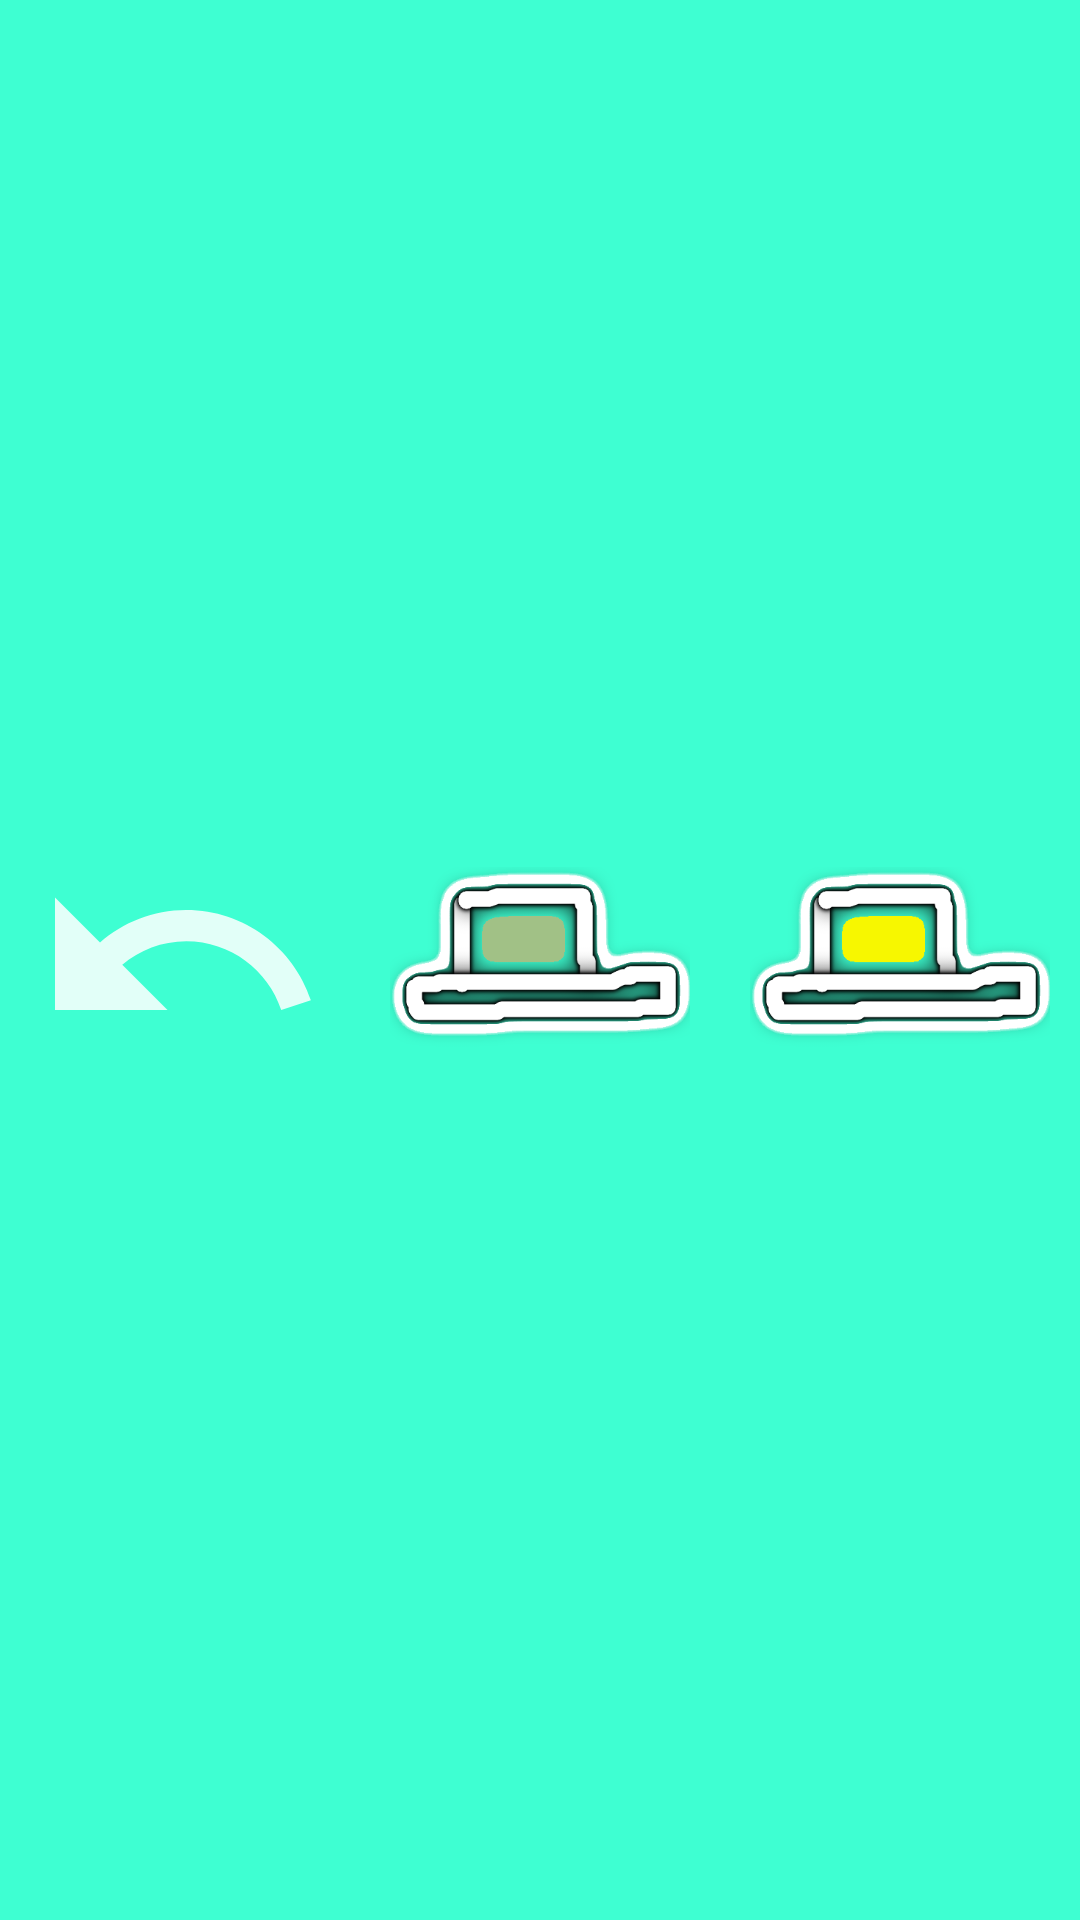

Icon bounding boxes for this 1080w x 1920h phone screenshot, format (x1, y1, x2, y2):
arrow undo: (55, 898, 311, 1010)
samp hat: (392, 873, 690, 1036), (752, 873, 1050, 1036)
